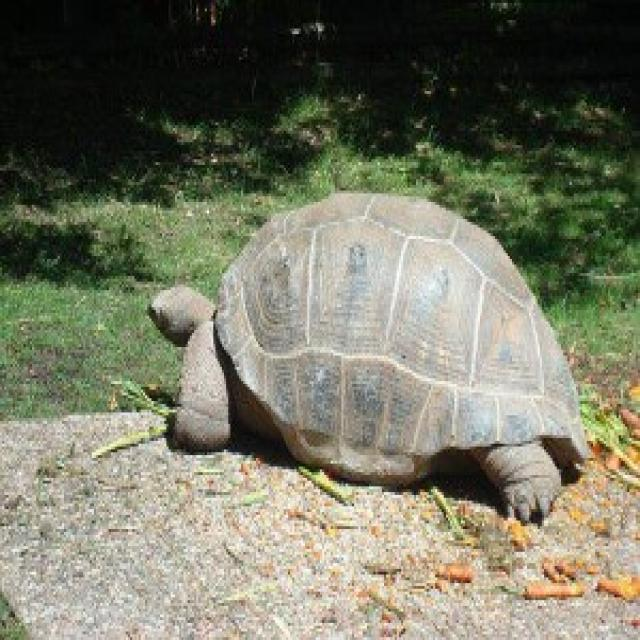Sea turtle: (126, 191, 606, 518)
